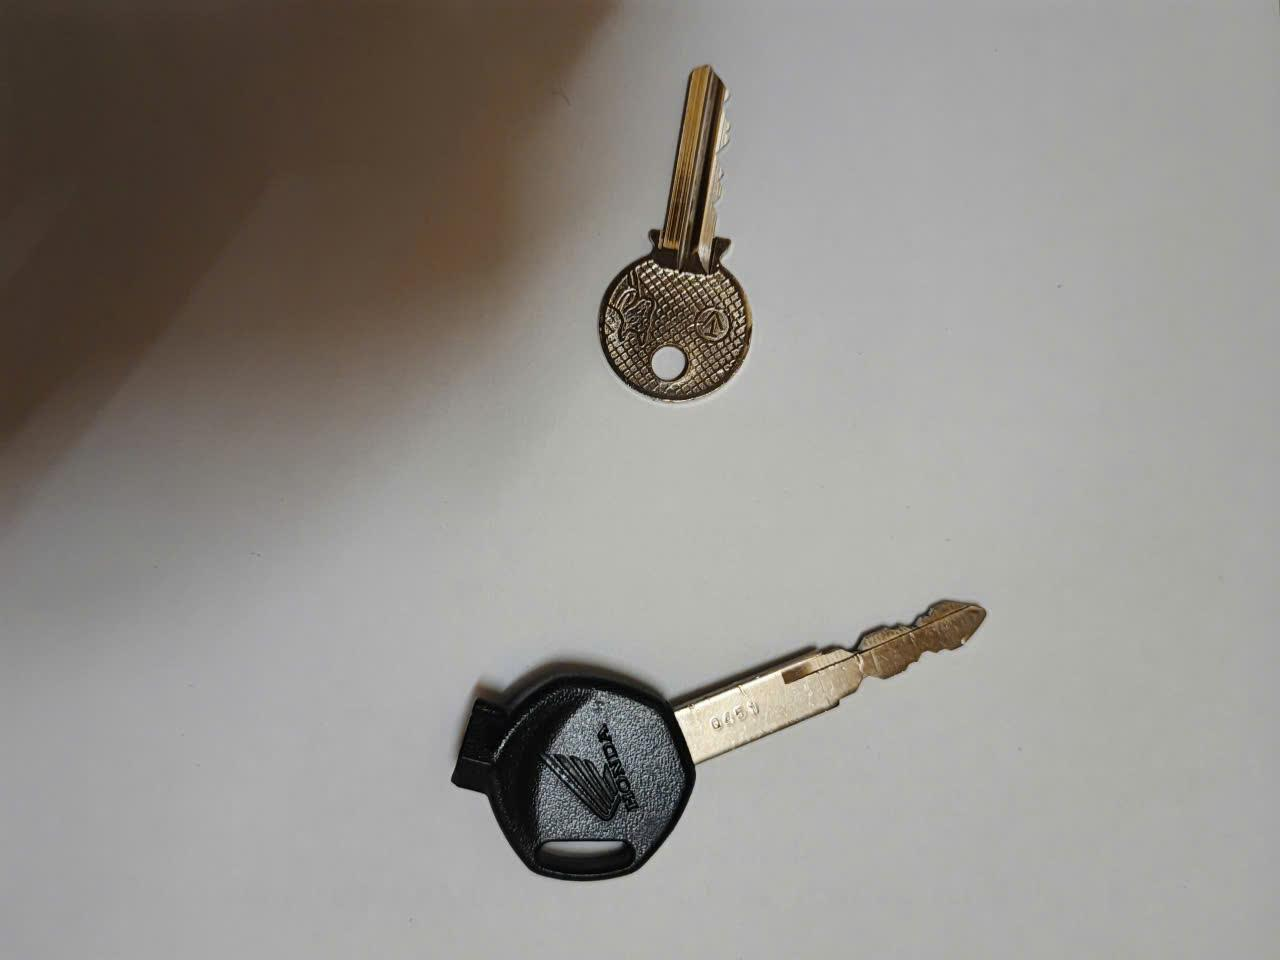Vo co: (450, 594, 987, 882), (596, 61, 754, 405)
